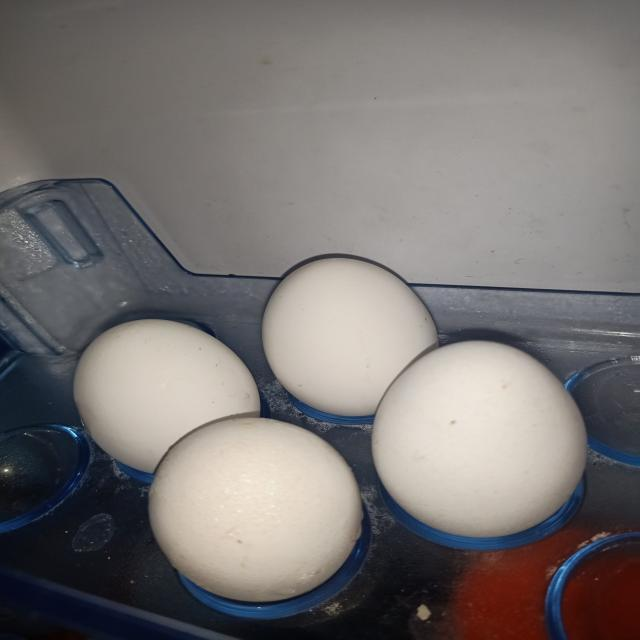Egg: (372, 341, 588, 538), (148, 418, 362, 603), (73, 319, 259, 474), (262, 258, 438, 416)
